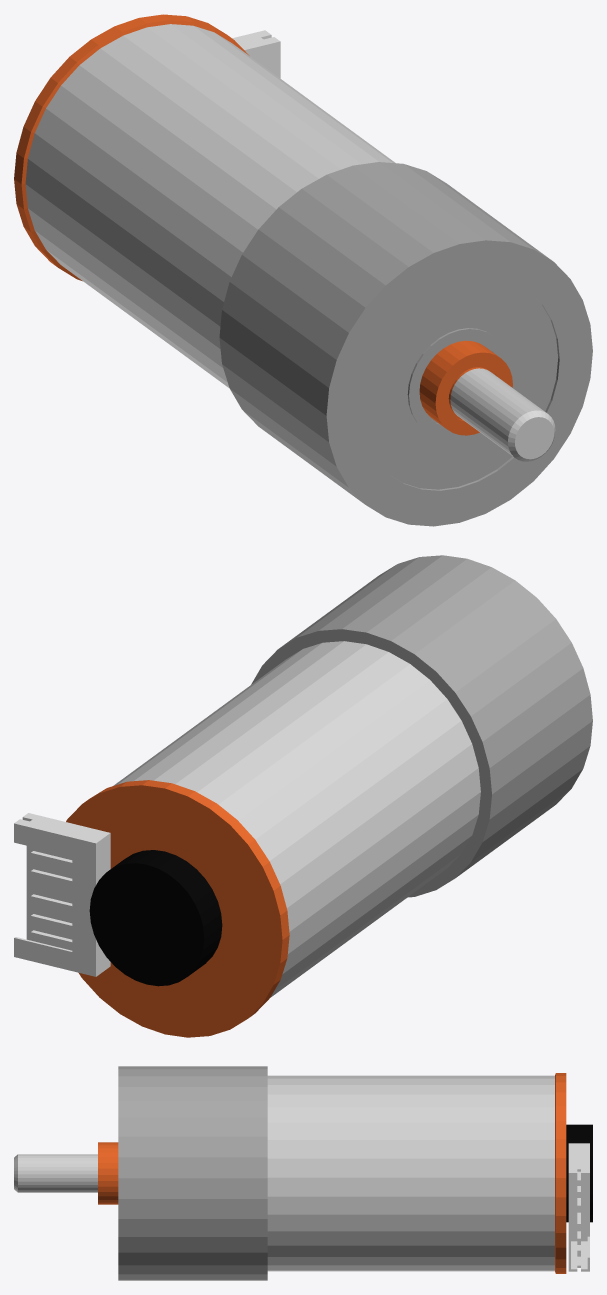
File: DCMotorWithEncoder.glb
3 renders of one model, top to bottom at view 1: azimuth 30°, elevation 25°; view 2: azimuth 150°, elevation 25°; view 3: azimuth 270°, elevation 25°, orthographic. The views are drawn at different scales.
Visible parts, largest first — view 1: DC Motor with Encoder, DC Motor with Encoder.001; view 2: DC Motor with Encoder; view 3: DC Motor with Encoder, DC Motor with Encoder.001.
Boxes of the visible parts, left/top/right/bottom form: DC Motor with Encoder: left=14, top=14, right=592, bottom=526; DC Motor with Encoder.001: left=450, top=368, right=555, bottom=461; DC Motor with Encoder: left=14, top=555, right=592, bottom=1037; DC Motor with Encoder: left=98, top=1066, right=592, bottom=1280; DC Motor with Encoder.001: left=14, top=1154, right=97, bottom=1192.
Bounding box in the file's own units: 0.3047 × 0.2935 × 0.7917.
